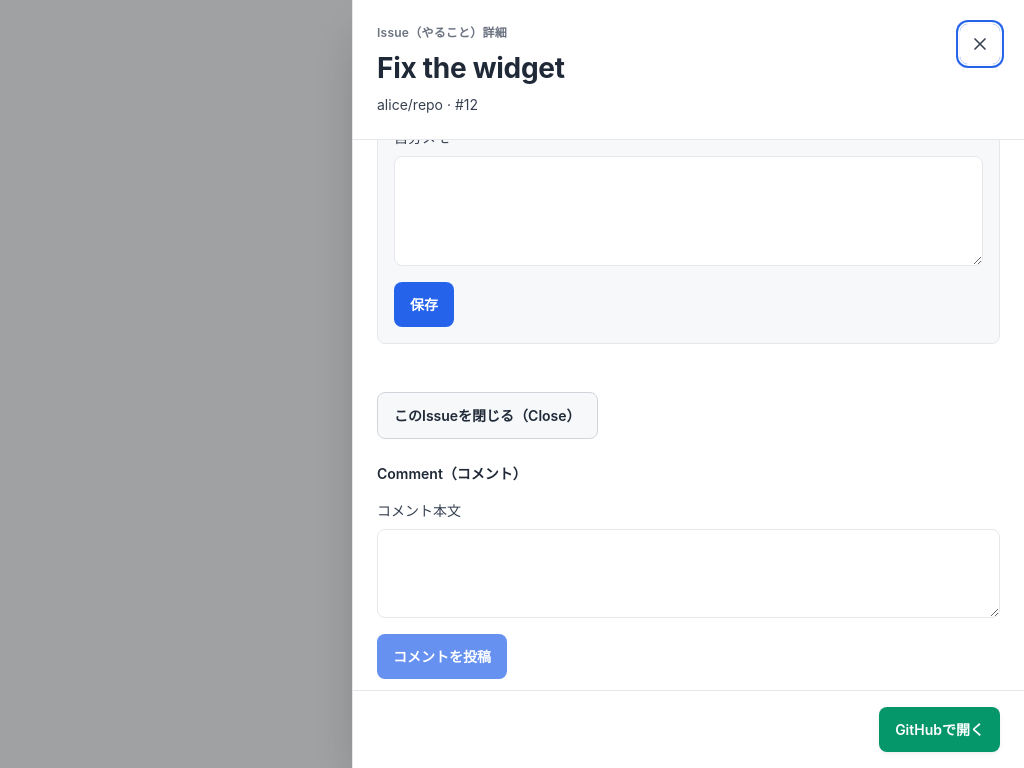
Test: IssueDetailPanel actions › maps HTTP 401 to a Japanese close error without changing issue state
(page scrolled)
Click the button "このIssueを閉じる（Close）" at (487, 415), box [377,392,598,439]
(page scrolled)
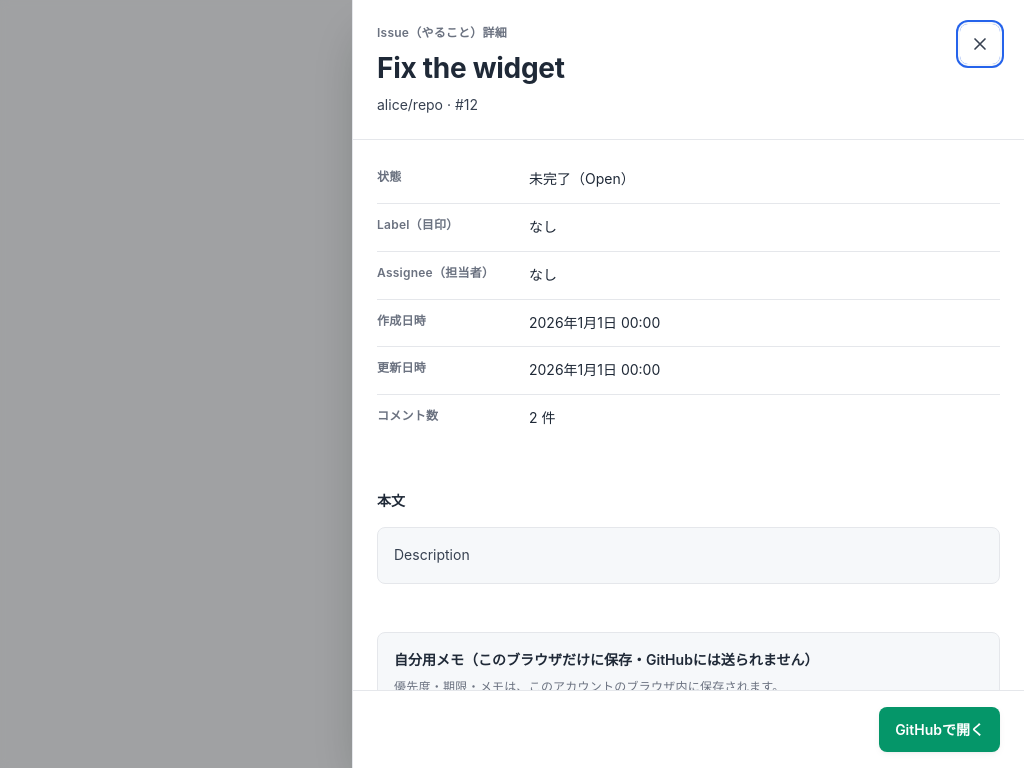
Now the text "未完了（Open）" is shown, box [529,170,635,187]
